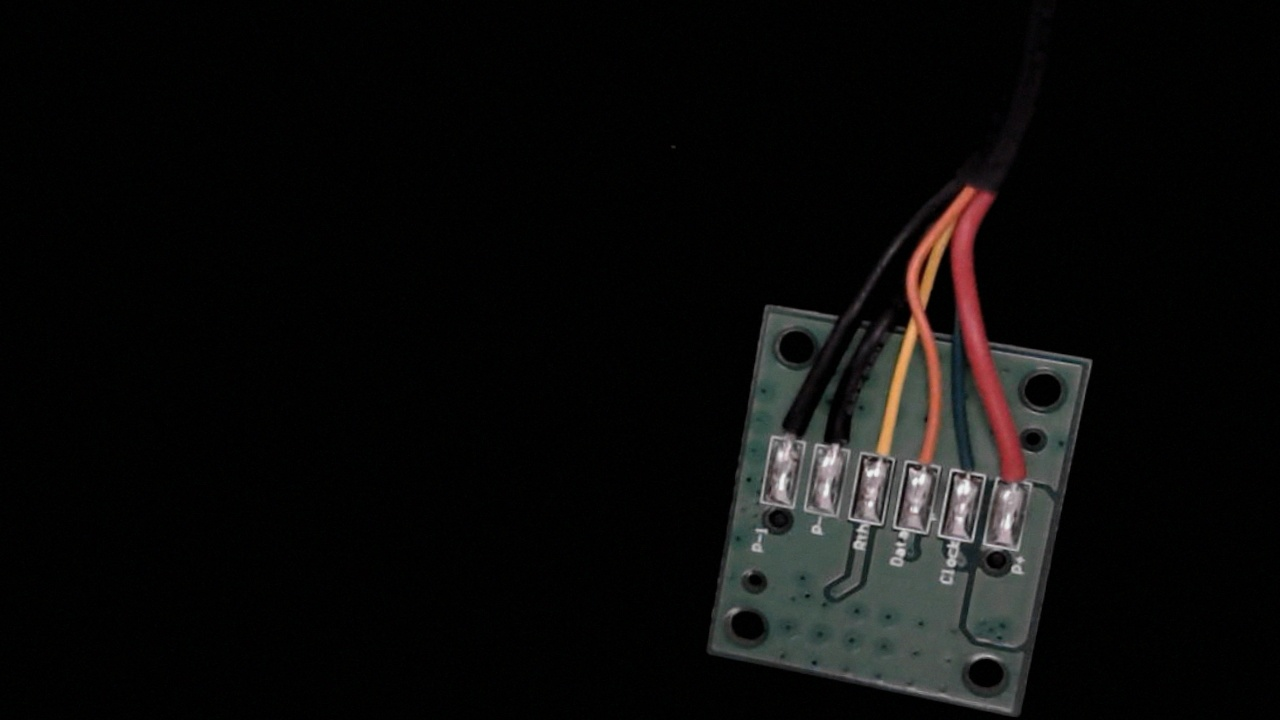Black: (813, 393, 862, 473)
Black1: (767, 380, 817, 464)
Green: (944, 417, 993, 496)
Orange: (904, 408, 952, 489)
Red: (990, 425, 1040, 504)
Yellow: (860, 406, 903, 481)
